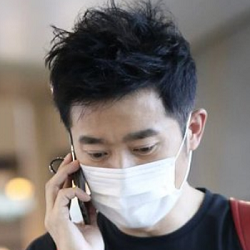mask: (75, 155, 187, 232)
